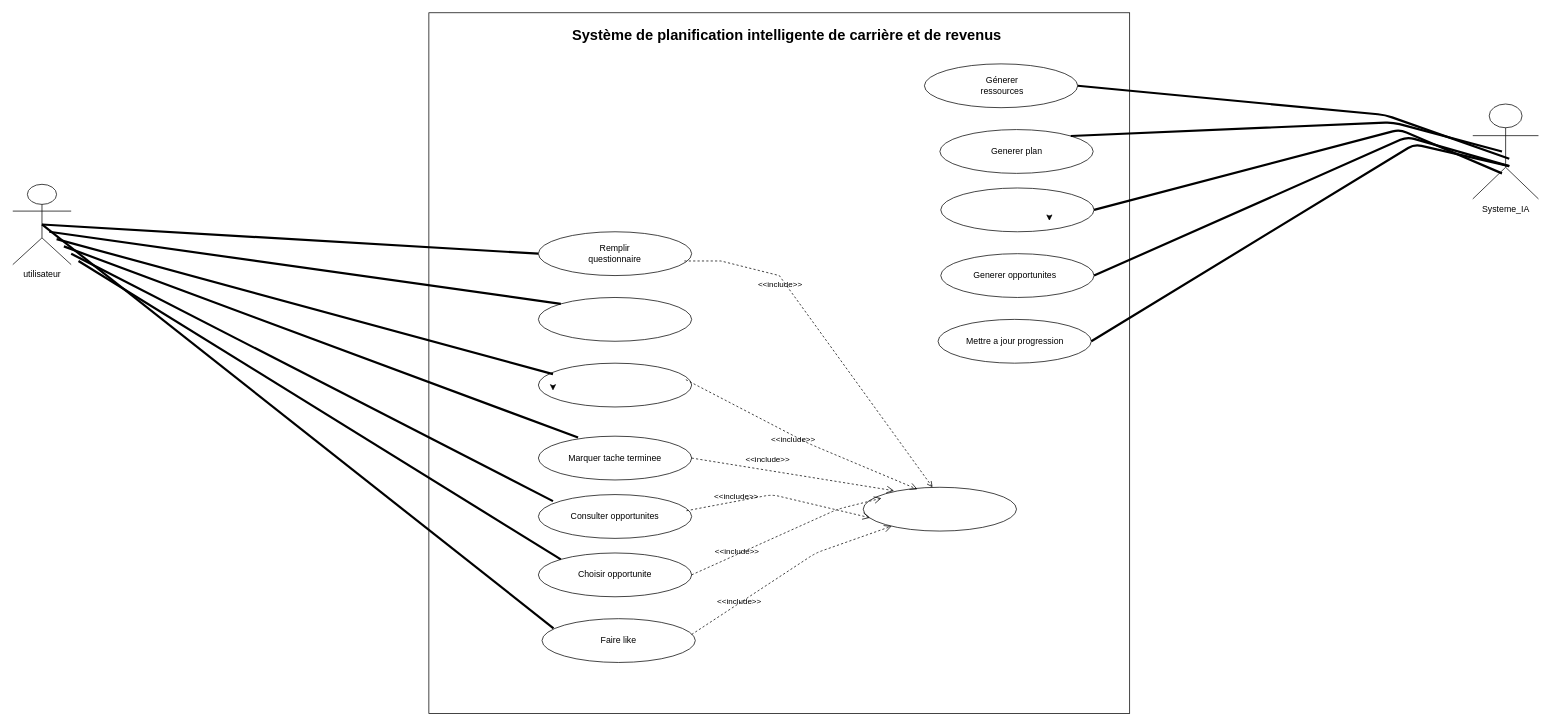
Some shapes in this 1551 by 726 pixel diagram are drawn without their labels. Here are the shapes that lost their labels. From the top down, the centre of each, then its label:
At (x=1017, y=209): "Ajuster plan".
At (x=615, y=319): "Consulter tableau de bord".
At (x=615, y=384): "Consulter plan quotidien".
At (x=939, y=509): "S'authentifier".
